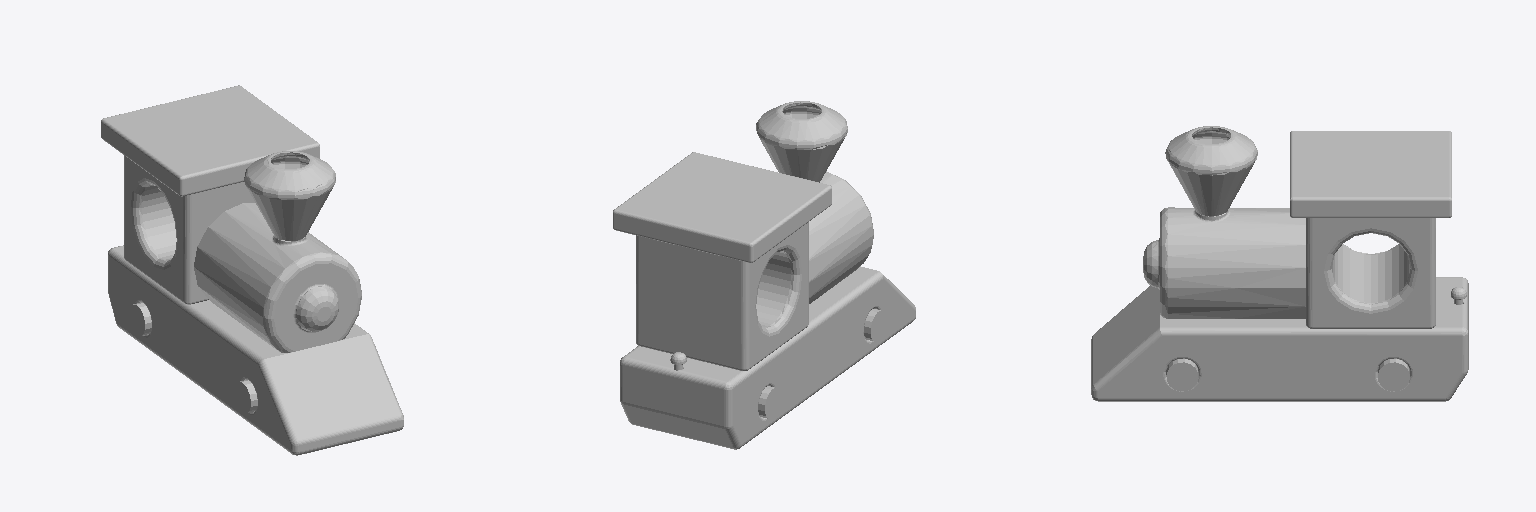
The model's file is train-with-out-wheels.obj.
3 renders of one model, left to right at view 1: azimuth 30°, elevation 25°; view 2: azimuth 150°, elevation 25°; view 3: azimuth 270°, elevation 25°, orthographic.
Visible parts, largest first — view 1: object_3, object_1, object_7, object_6, object_2, object_4, object_10, object_13; view 2: object_3, object_6, object_7, object_1, object_2, object_13, object_10; view 3: object_3, object_1, object_7, object_6, object_2, object_13, object_10, object_4.
Part boxes in pixels (left/top/right/bottom): object_3: left=108, top=245, right=403, bottom=455; object_1: left=194, top=203, right=361, bottom=352; object_7: left=101, top=85, right=319, bottom=196; object_6: left=124, top=155, right=254, bottom=304; object_2: left=244, top=151, right=335, bottom=246; object_4: left=293, top=284, right=338, bottom=332; object_10: left=129, top=303, right=151, bottom=335; object_13: left=235, top=380, right=257, bottom=412; object_3: left=620, top=266, right=915, bottom=449; object_6: left=636, top=222, right=808, bottom=370; object_7: left=613, top=152, right=831, bottom=262; object_1: left=809, top=171, right=873, bottom=303; object_2: left=756, top=101, right=847, bottom=182; object_13: left=864, top=309, right=886, bottom=341; object_10: left=758, top=386, right=780, bottom=418; object_3: left=1091, top=277, right=1468, bottom=401; object_1: left=1160, top=207, right=1305, bottom=318; object_7: left=1290, top=131, right=1451, bottom=217; object_6: left=1306, top=218, right=1435, bottom=328; object_2: left=1165, top=126, right=1257, bottom=222; object_13: left=1166, top=359, right=1198, bottom=391; object_10: left=1378, top=359, right=1409, bottom=391; object_4: left=1143, top=238, right=1159, bottom=289.
Size of the model in its own units: 50 by 81.6 by 116.